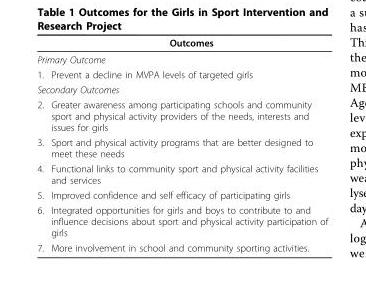table: (36, 36, 327, 252)
table column: (46, 36, 327, 252), (36, 36, 46, 252)
table column header: (36, 36, 327, 50)
table projected row header: (36, 50, 327, 66), (36, 81, 327, 96)
table row: (36, 96, 327, 134), (36, 202, 327, 239), (36, 160, 327, 187), (36, 134, 327, 160), (36, 50, 327, 66), (36, 66, 327, 81), (36, 81, 327, 96), (36, 187, 327, 202), (36, 36, 327, 50), (36, 239, 327, 252)
